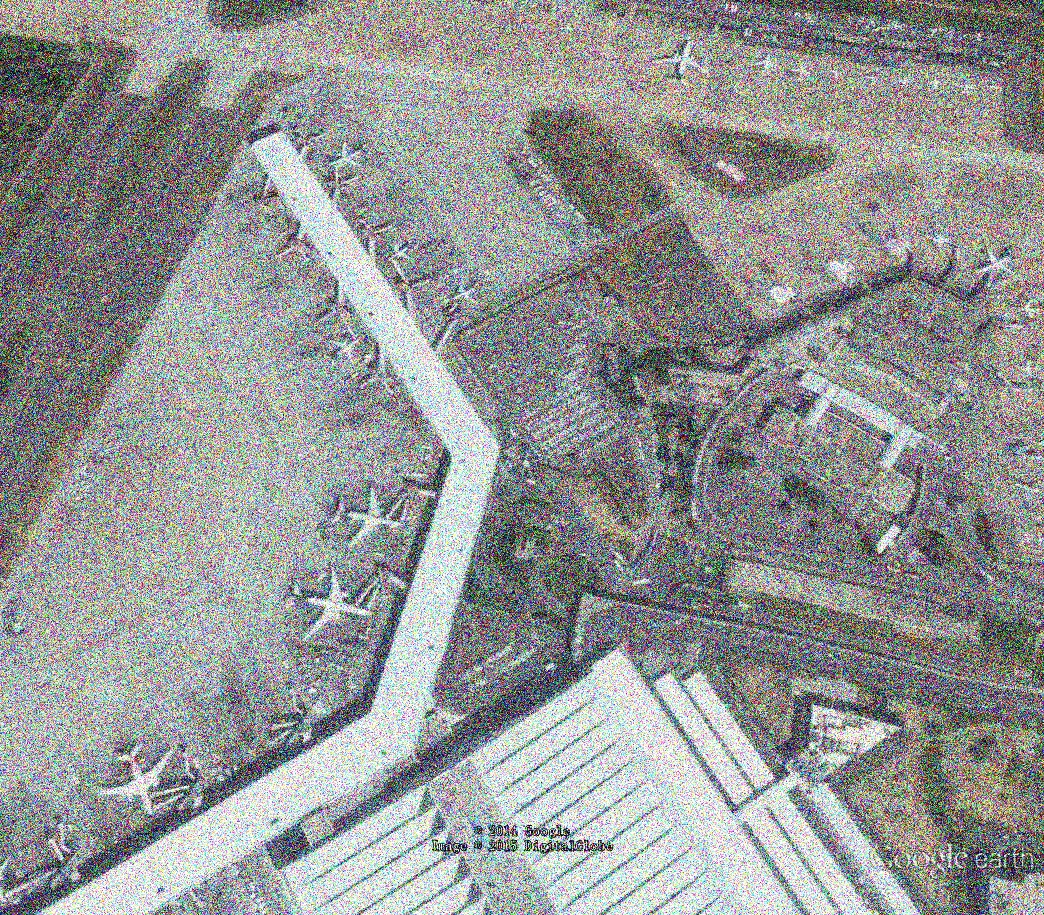aircraft: (274, 561, 381, 644), (95, 737, 180, 820), (321, 479, 409, 550), (650, 35, 712, 89), (320, 332, 365, 373), (441, 275, 488, 311), (976, 244, 1020, 280), (326, 139, 372, 172), (385, 234, 418, 271), (753, 53, 784, 77), (924, 227, 953, 252), (1017, 300, 1043, 324), (788, 61, 812, 84), (1016, 359, 1041, 381), (954, 79, 979, 97), (986, 81, 1009, 98), (827, 64, 847, 82), (1020, 528, 1036, 550), (925, 76, 947, 91), (895, 75, 915, 90), (559, 22, 575, 40), (864, 72, 882, 86), (1034, 530, 1044, 548)
